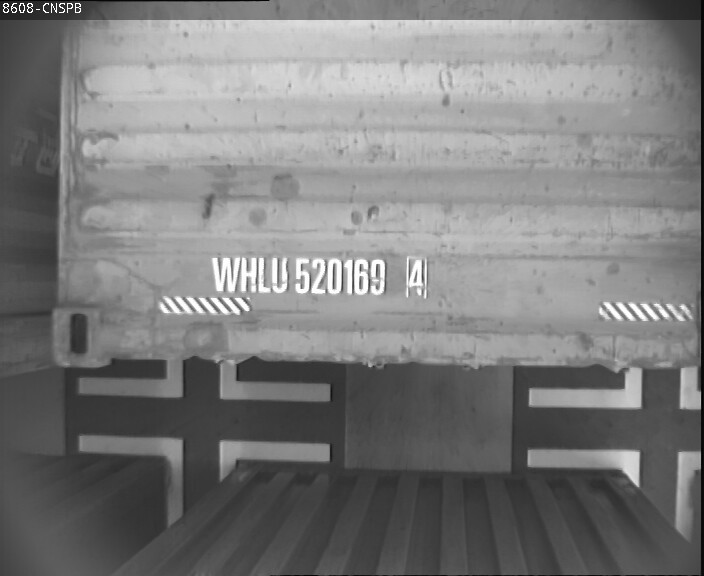groundmarker_1: (76, 434, 333, 526), (77, 354, 330, 402), (528, 362, 704, 408)
